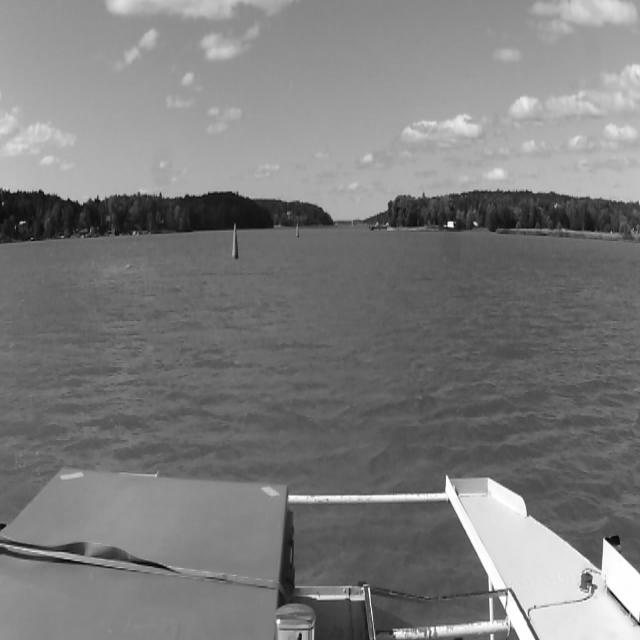buoy: (232, 223, 238, 258), (296, 223, 299, 237)
